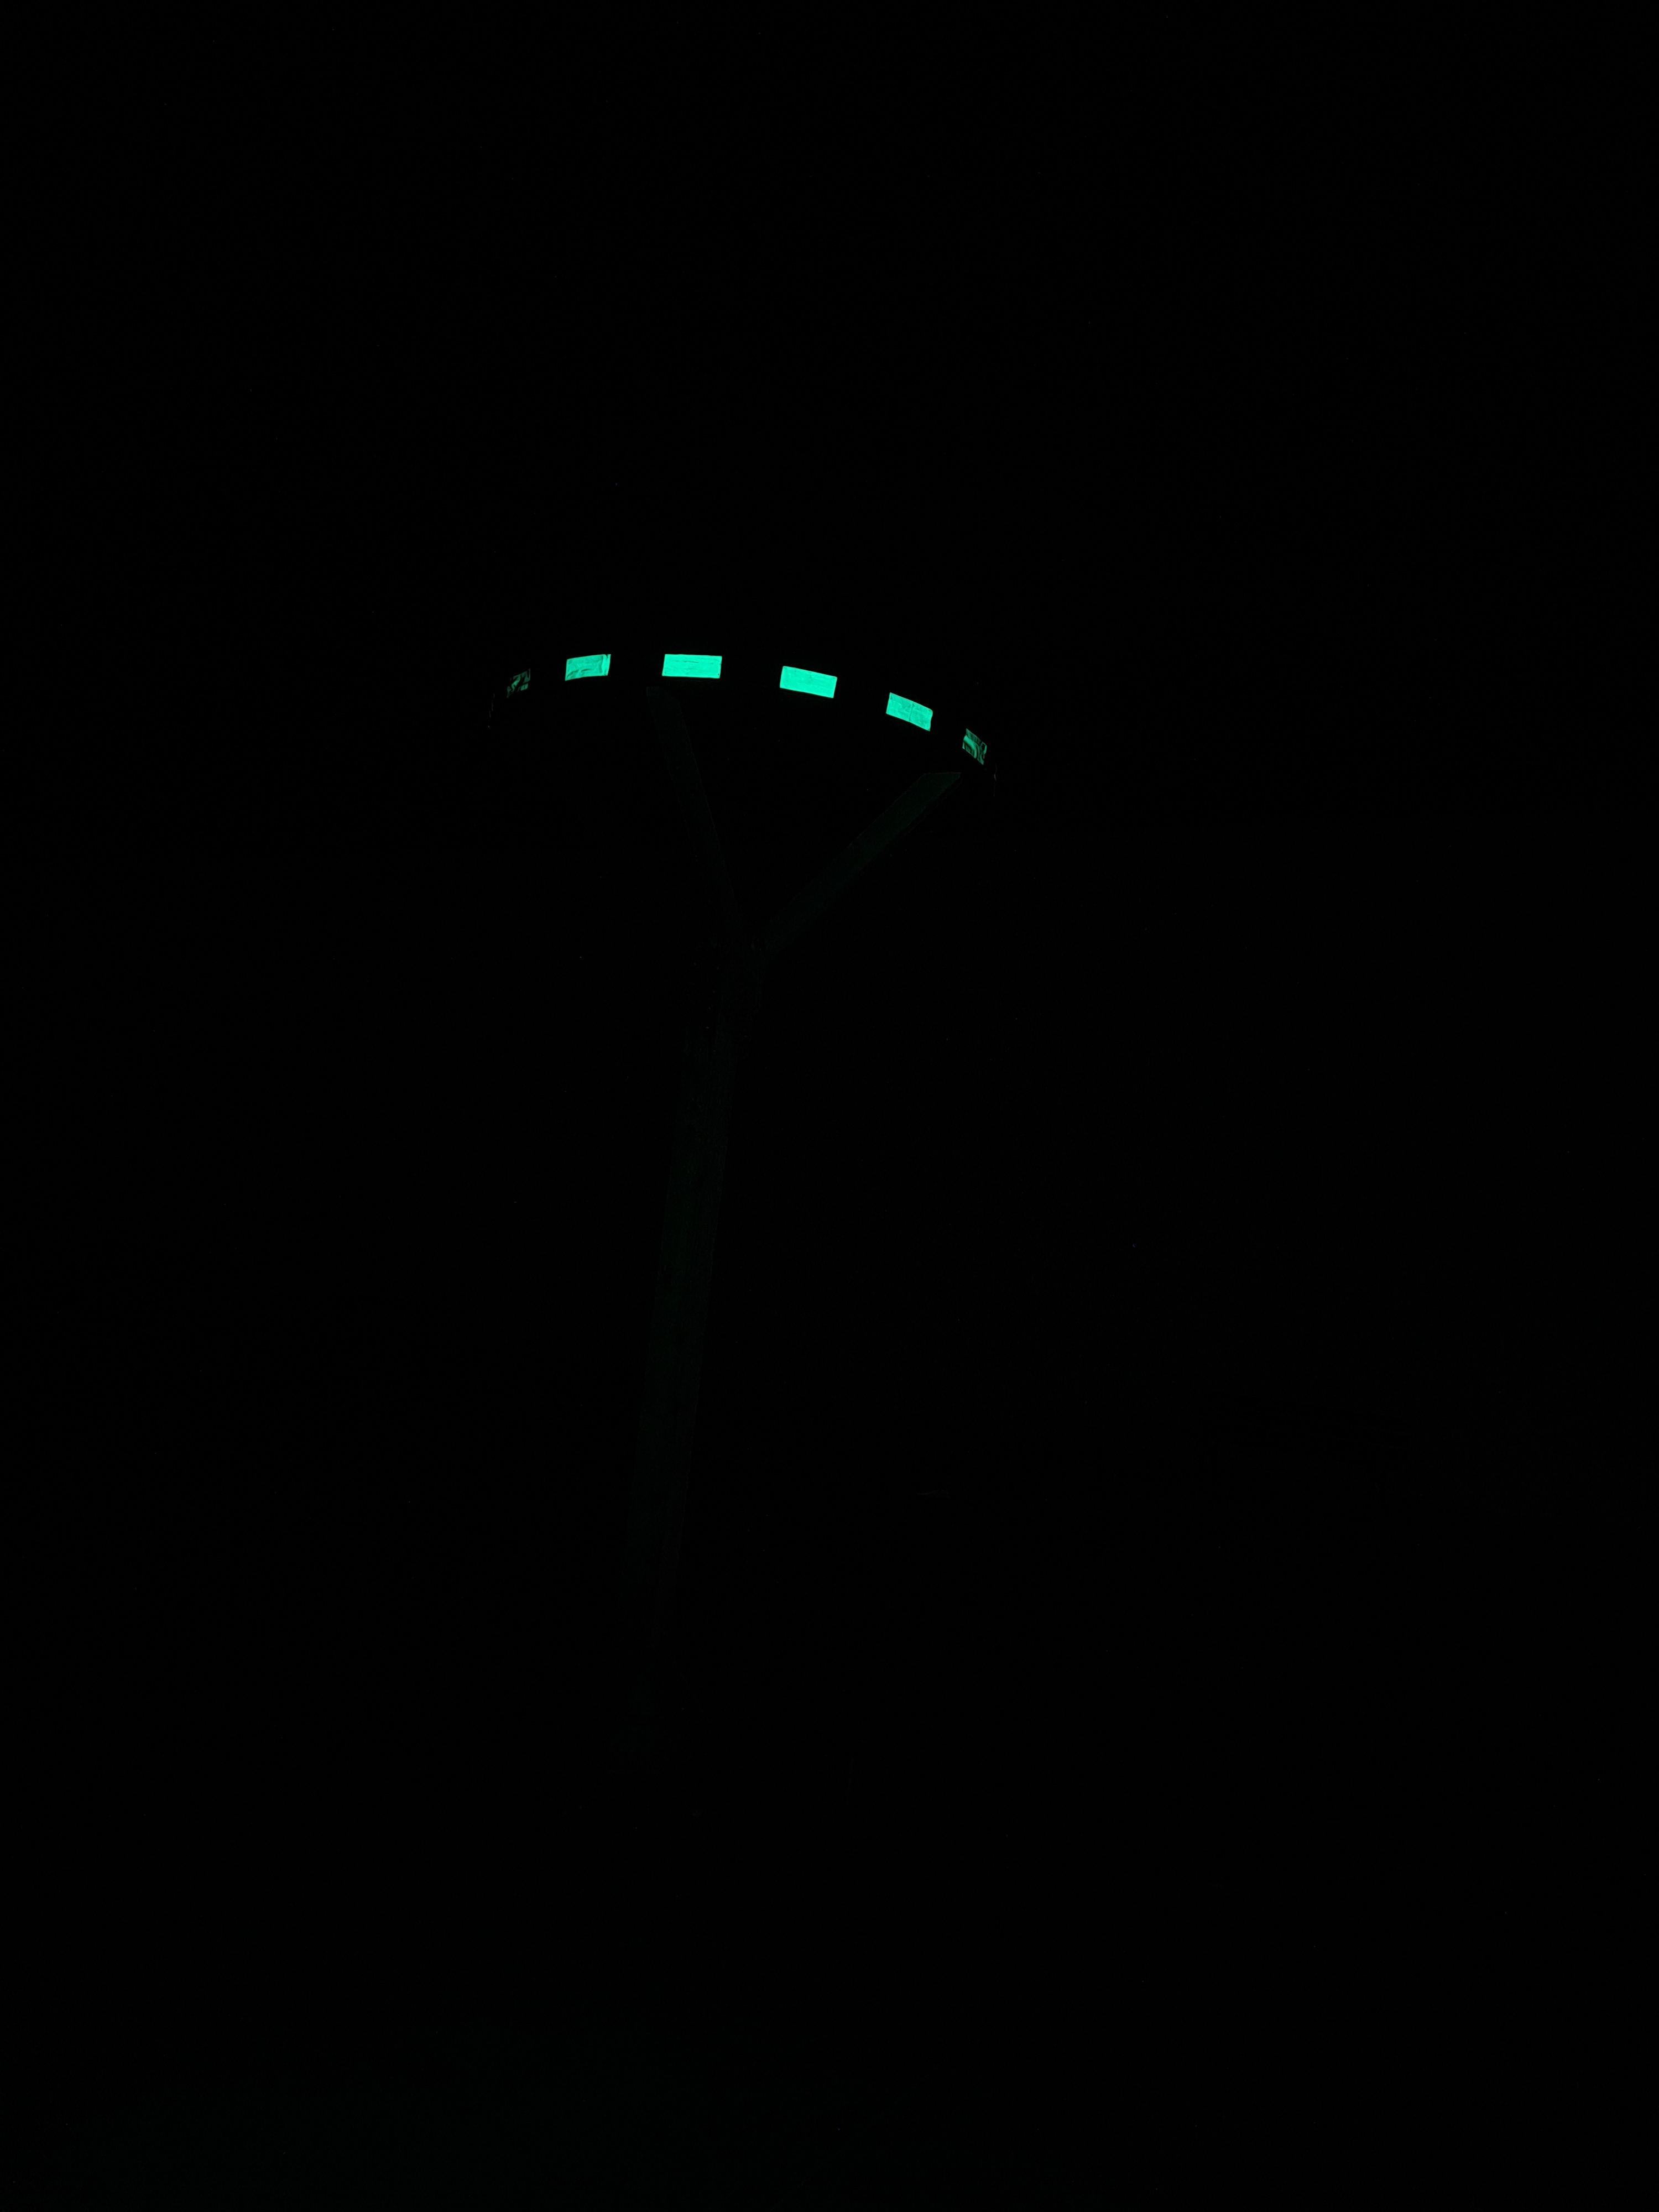hoop: (481, 636, 995, 777)
